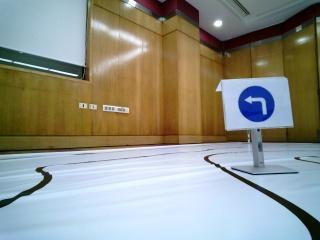left: (226, 84, 287, 129)
